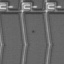dust: (31, 30, 36, 33)
